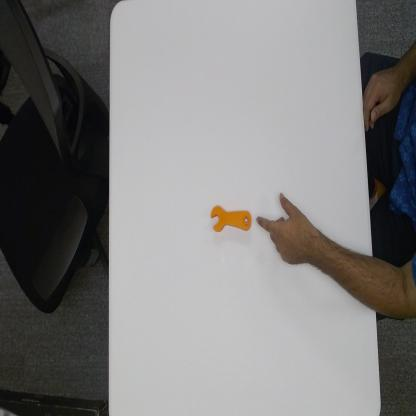Arm: (318, 226, 386, 316)
Hand: (254, 189, 318, 272)
Screwdriver: (210, 199, 253, 236)
